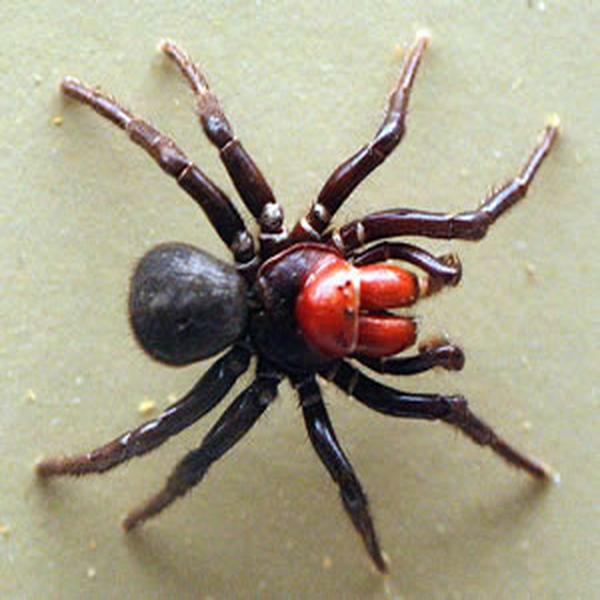Red Headed Mouse Spider: (62, 47, 552, 558)
